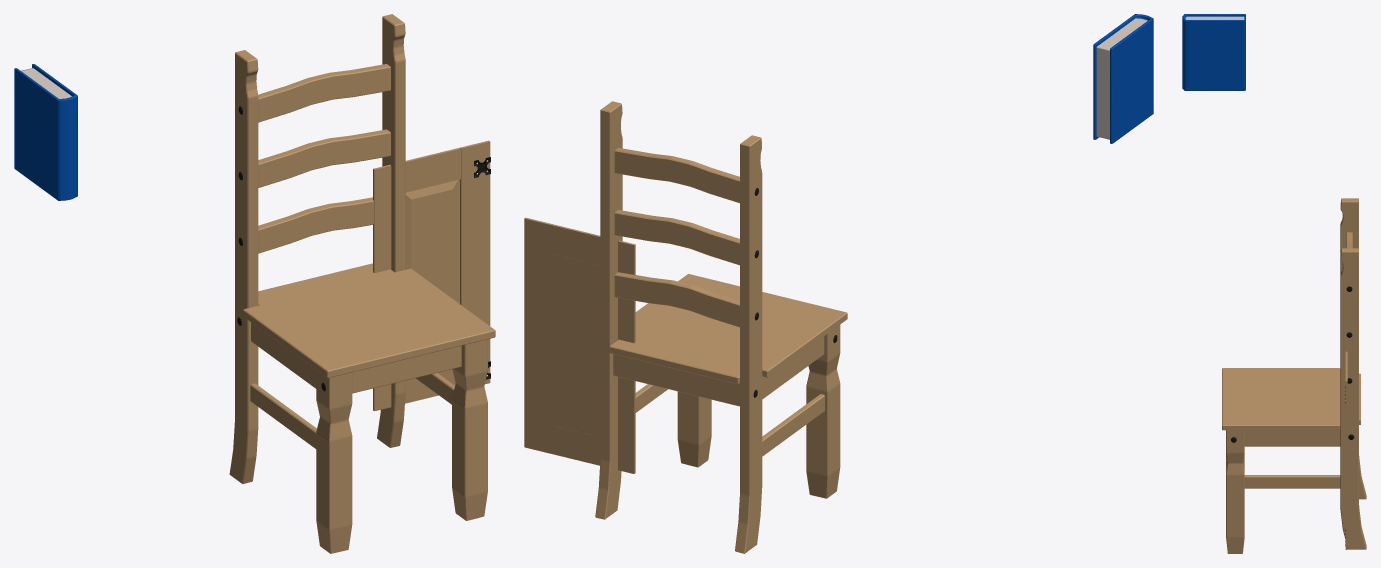
File: chair 2.fbx
3 views of the same model, side by side, from view 1: azimuth 30°, elevation 25°; view 2: azimuth 150°, elevation 25°; view 3: azimuth 270°, elevation 25° (orthographic). The views are drawn at different scales.
Parts seen in each view (by area): view 1: Cube.009, Corona_Seconique Tall Bookcase.001, Cube.006; view 2: Cube.009, Corona_Seconique Tall Bookcase.001, Cube.006; view 3: Cube.009, Cube.006, Corona_Seconique Tall Bookcase.001.
Part boxes in pixels (bbox=[...]): Cube.009: bbox=[229, 14, 495, 553]; Corona_Seconique Tall Bookcase.001: bbox=[373, 140, 490, 411]; Cube.006: bbox=[14, 64, 77, 200]; Cube.009: bbox=[595, 101, 847, 553]; Corona_Seconique Tall Bookcase.001: bbox=[524, 217, 635, 473]; Cube.006: bbox=[1093, 14, 1153, 143]; Cube.009: bbox=[1222, 198, 1366, 553]; Cube.006: bbox=[1182, 14, 1245, 90]; Corona_Seconique Tall Bookcase.001: bbox=[1345, 351, 1347, 549].
Bounding box in the file's own units: 141 × 136 × 58.96.
